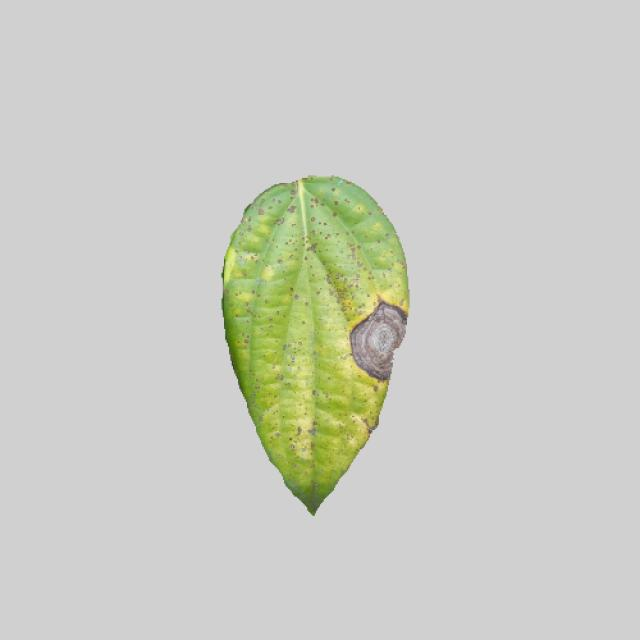leaf-blight: (209, 178, 416, 516)
